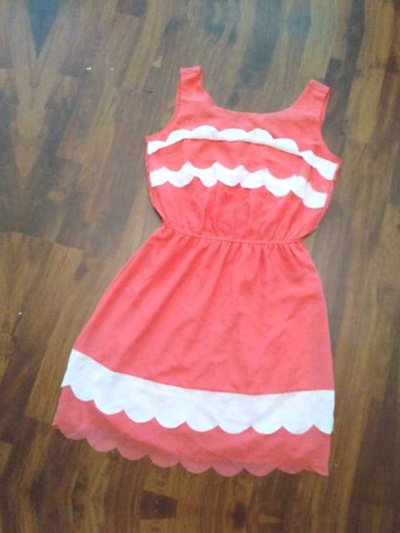Dress: (28, 51, 391, 499), (0, 520, 336, 533), (0, 6, 0, 454)
